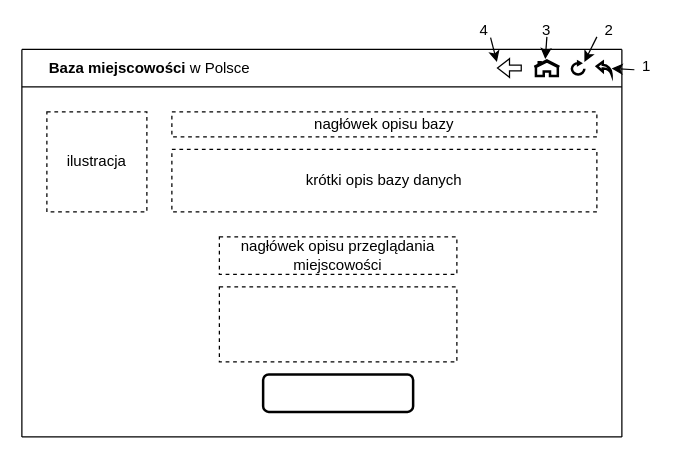
Image size: 681x460. Some labels were removed from this diagram. Each missing label, with the centre of its shape:
krótki opis procesu przeglądania miejscowości: pixel 337 324
Lista miejscowości: pixel 337 392
